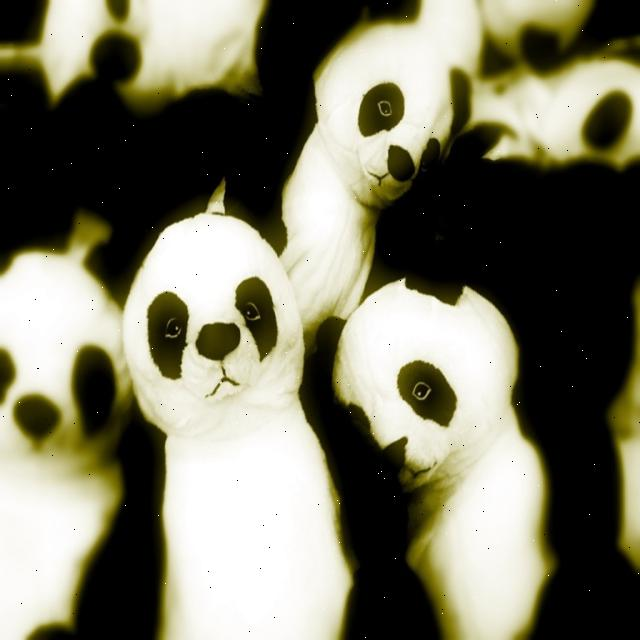panda: (0, 0, 639, 639), (320, 272, 559, 639)
